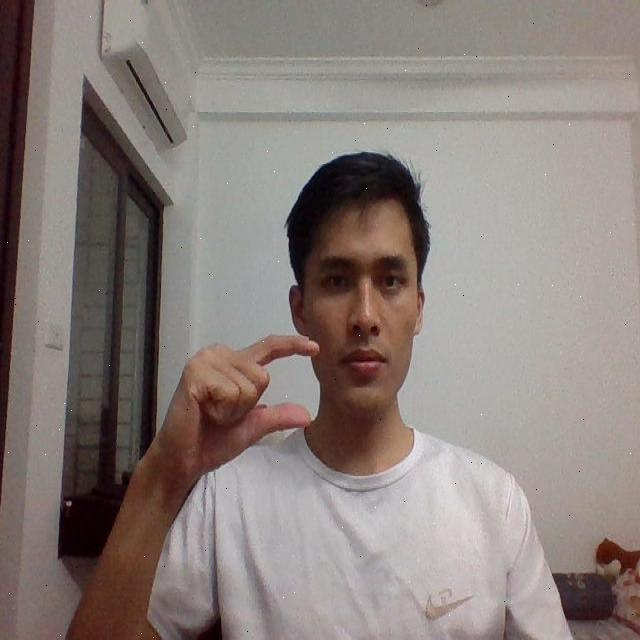no: (172, 325, 322, 482)
